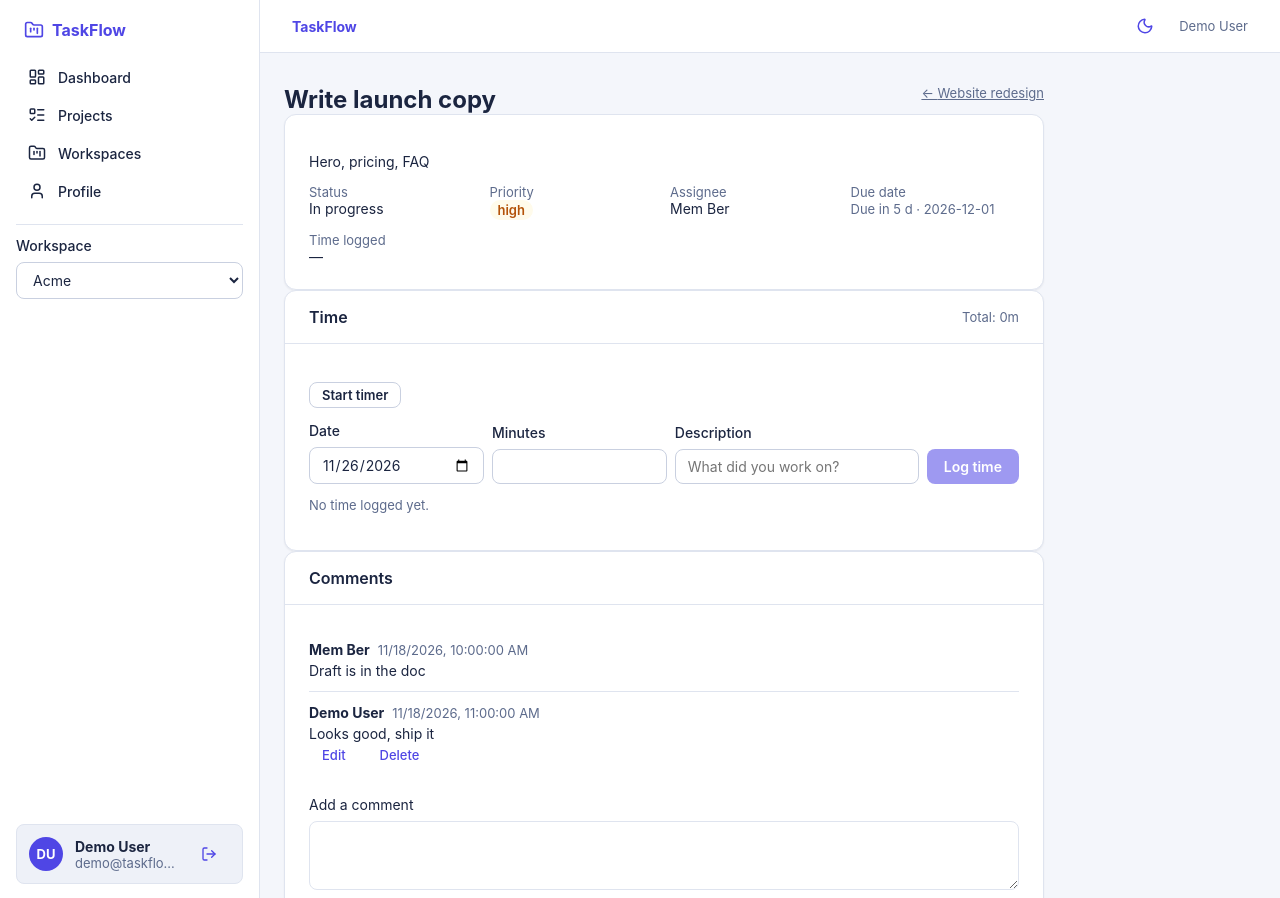
it: Task detail — "Detail and comments screens meet the accessibility bar" › labels every comment control and exposes the thread accessibly
Expected: the text "Draft is in the doc" is shown, [309,662,426,679]
Expected: the text box labelled "Add a comment" is shown, [309,821,1019,890]
// edit form exposes a labelled field when opened
Click the button with aria-label "Edit comment by Demo User" at [334, 755], box [309,742,359,768]
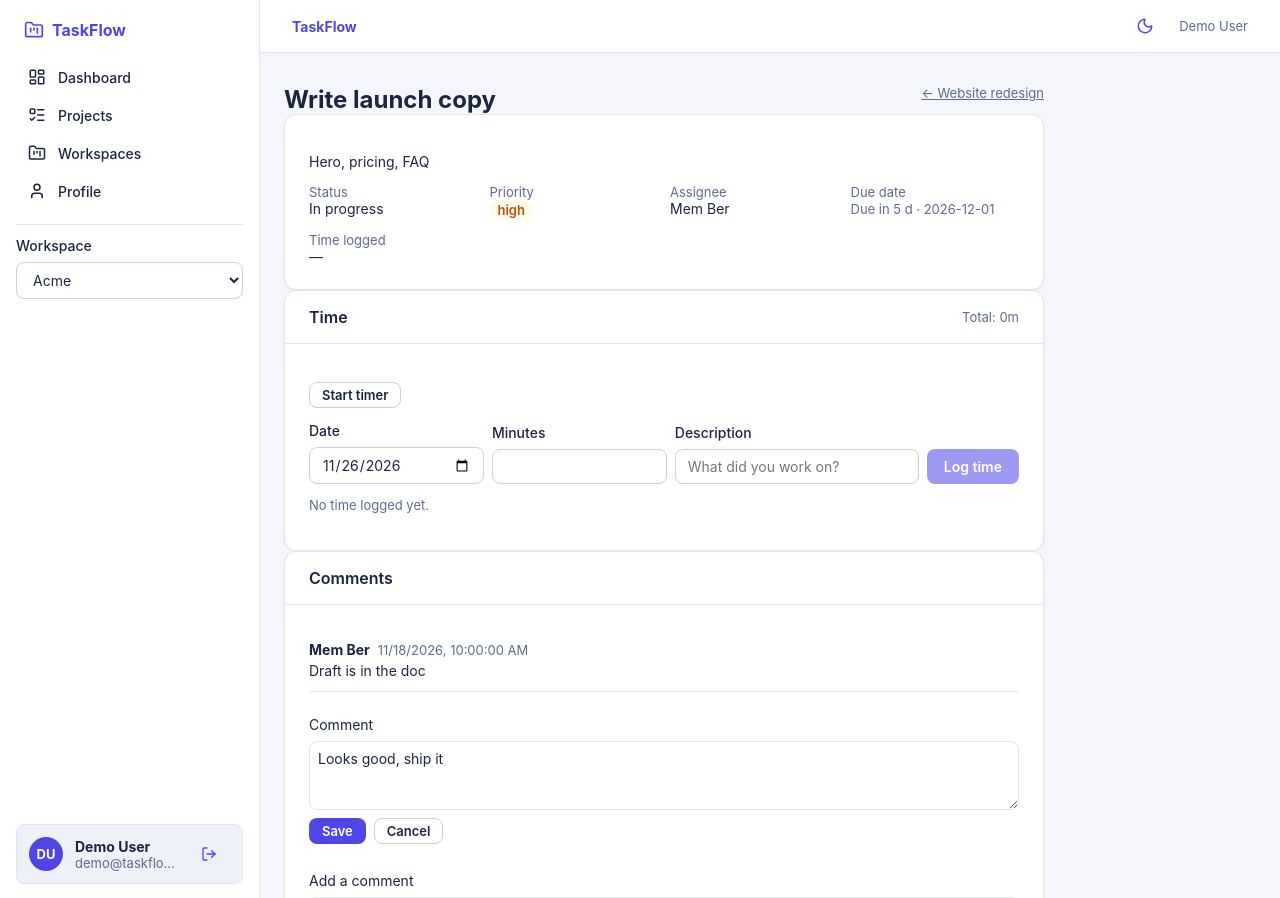
Expected: the text box labelled "Comment" is shown, [309,741,1019,810]
Expected: the button "Save" is shown, [309,818,366,844]
